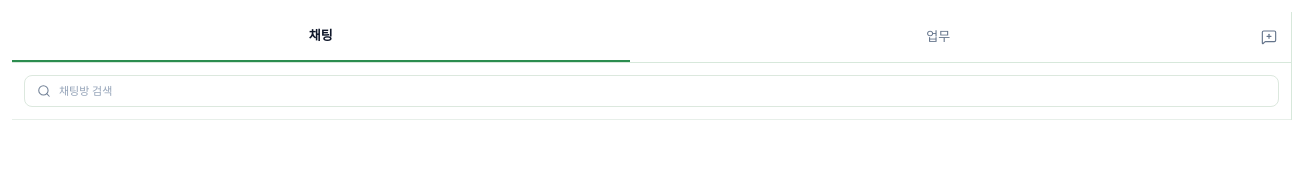
Test: MessengerSidebar › 업무 탭을 다시 클릭하면 드롭다운이 닫힌다
The image size is (1304, 172).
Click the button "업무" at [938, 37], box [630,12,1247,62]
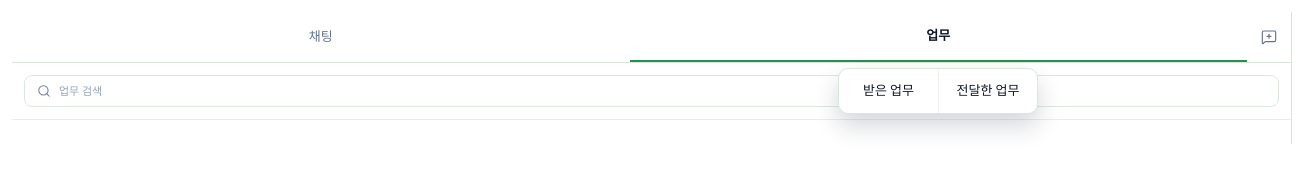
Click the button "업무" at [938, 37], box [630,12,1247,62]
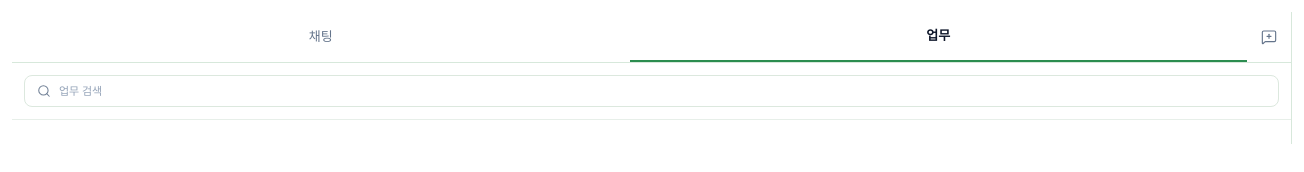
Result: the button "받은 업무" is gone
